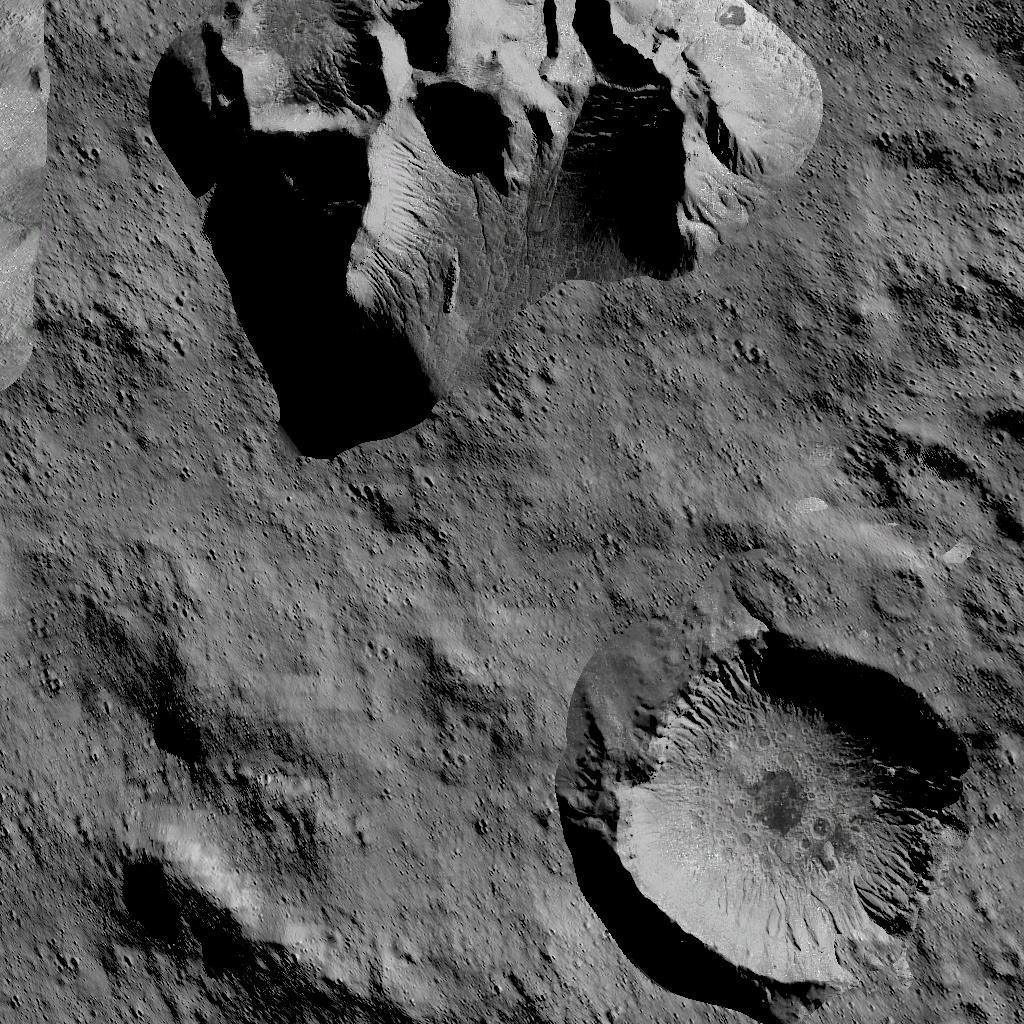Boulders: (145, 0, 825, 450), (117, 830, 379, 1024), (0, 0, 54, 412)
Crater: (560, 601, 994, 1024), (143, 694, 227, 778)
Plan surface: (246, 470, 538, 804), (841, 0, 1024, 388), (14, 472, 224, 672), (556, 466, 868, 588)
